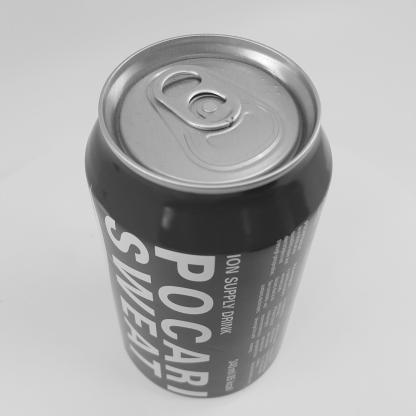alumunium_can: (80, 29, 339, 416)
